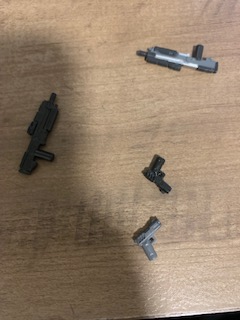pistol: (133, 216, 166, 263), (140, 153, 176, 196)
rifle: (18, 92, 60, 177), (136, 44, 221, 76)
